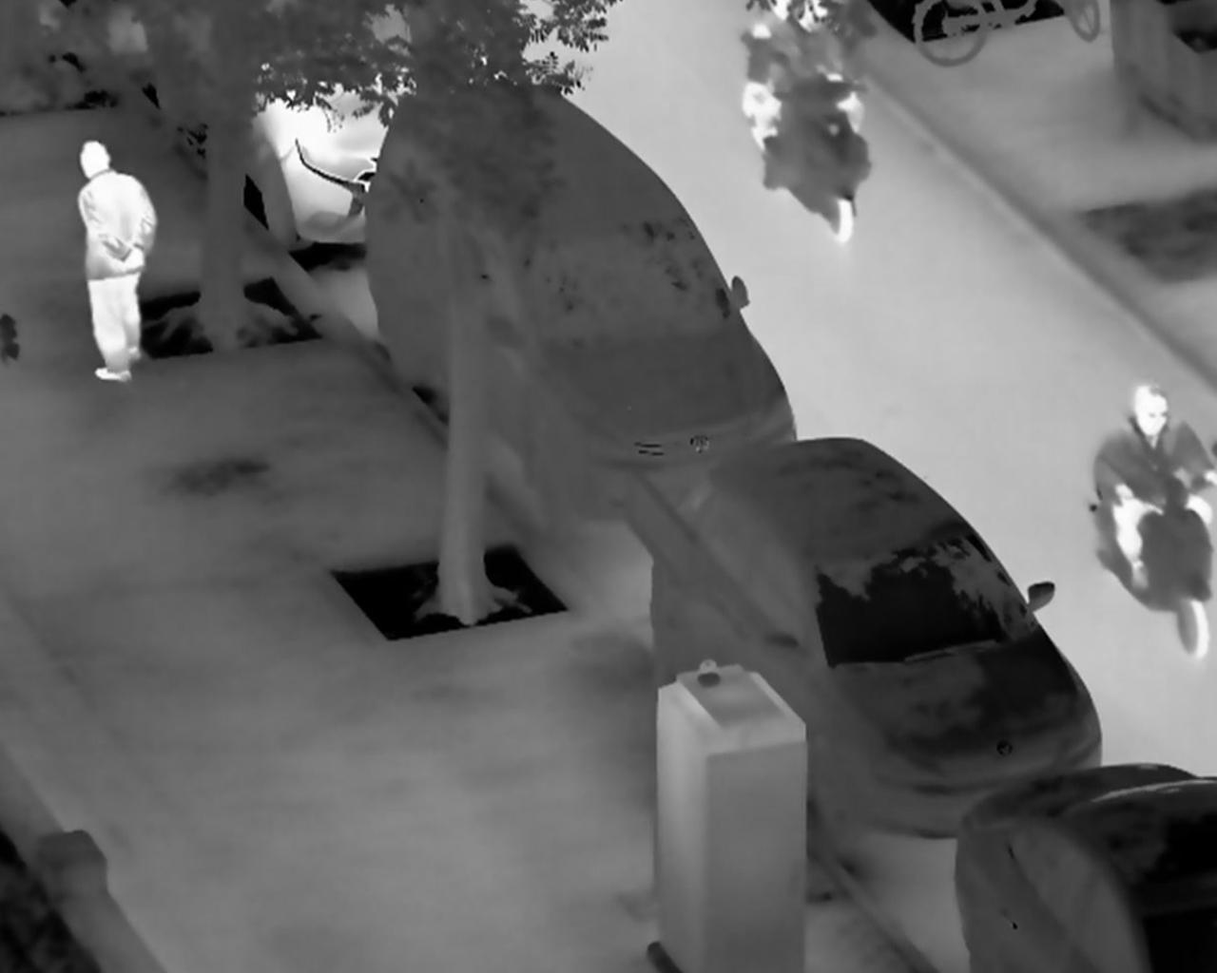person: (1089, 381, 1217, 595), (76, 137, 158, 384)
